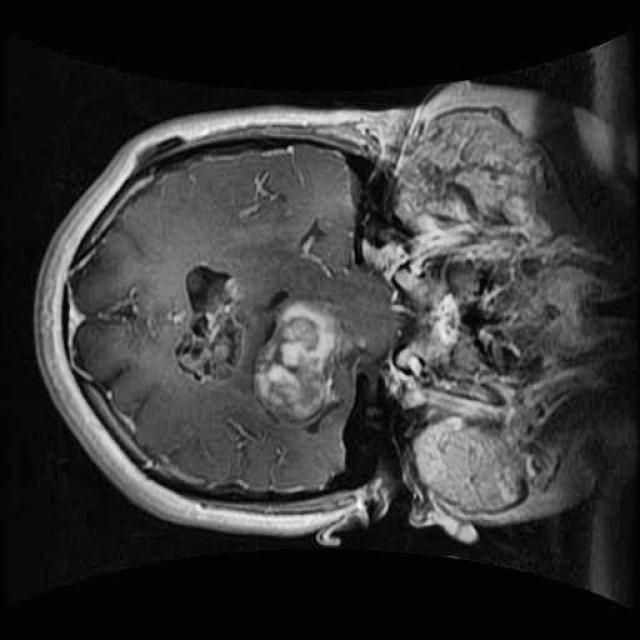Non-Tumor: (245, 288, 350, 430)
